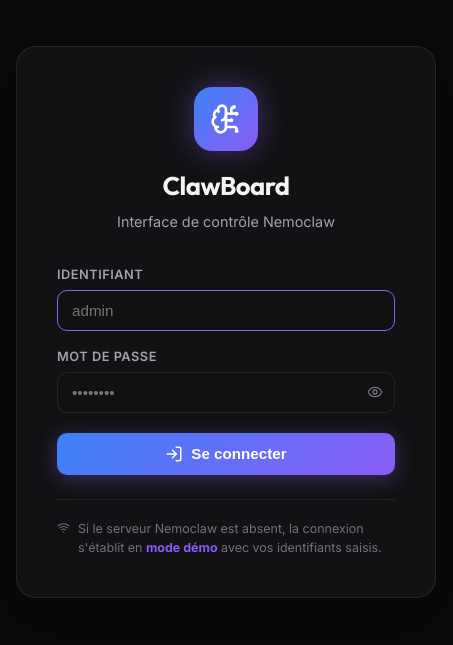
Scenario: LoginPage › shows error message on 401 response
The width and height of the screenshot is (453, 645).
Type "baduser" into the field with placeholder "admin" at (226, 310), box [57, 290, 395, 331]
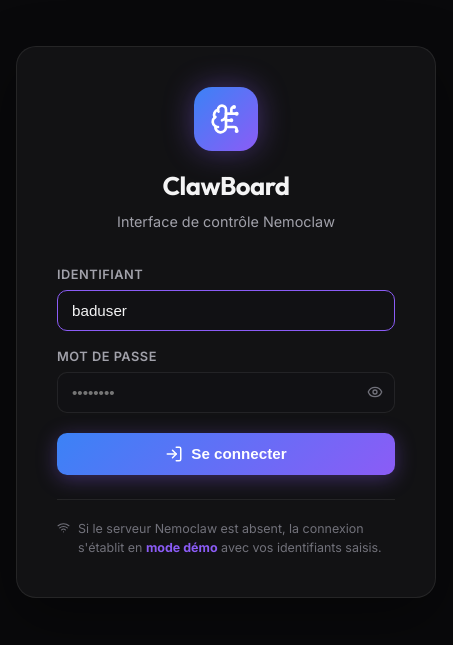
Type "badpass" into the password field with placeholder "••••••••" at (226, 392), box [57, 372, 395, 413]
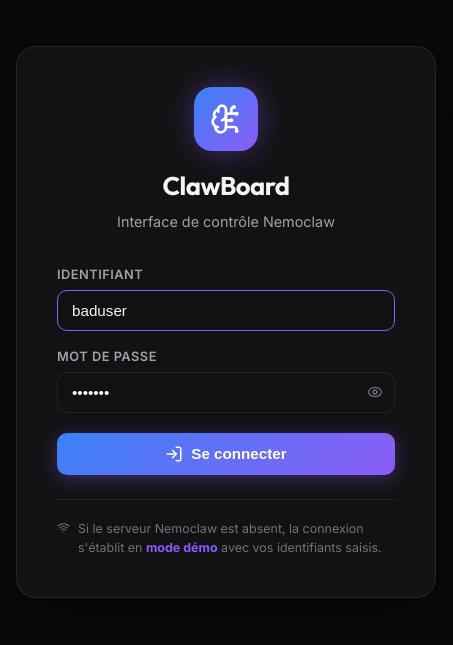
Click the button "Se connecter" at (226, 454), box [57, 433, 395, 475]
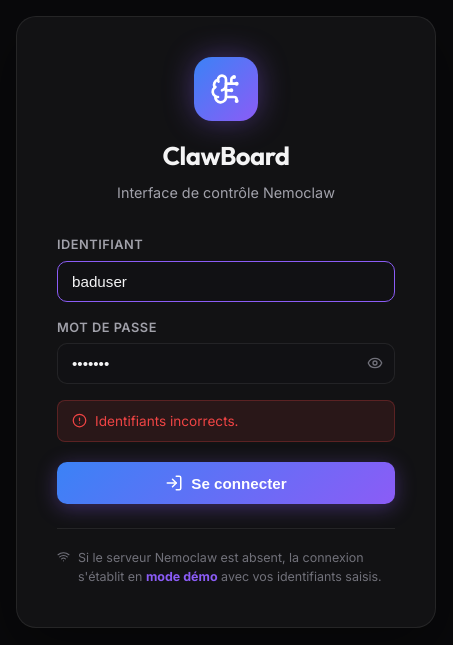
Result: the text "Identifiants incorrects." is shown at [57, 400, 395, 442]
